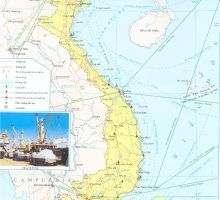Island: (177, 70, 220, 101)
